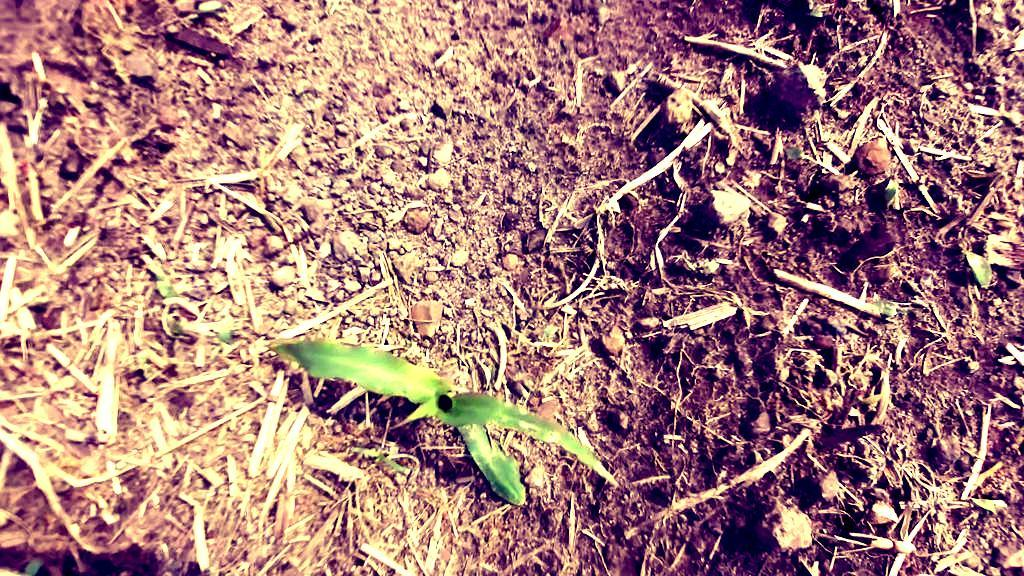BroWeed: (953, 231, 1001, 293), (198, 310, 246, 369), (349, 436, 416, 476), (140, 255, 182, 304), (879, 160, 906, 211), (55, 444, 87, 477), (778, 136, 810, 169), (699, 252, 734, 277), (967, 494, 1002, 516), (475, 353, 496, 389), (870, 299, 909, 318), (134, 347, 154, 381), (161, 311, 184, 339), (23, 551, 48, 576), (539, 320, 560, 345), (1004, 544, 1024, 570), (962, 168, 998, 181), (681, 253, 701, 273), (856, 393, 880, 408), (487, 362, 498, 382)
Maize: (259, 272, 631, 548)
